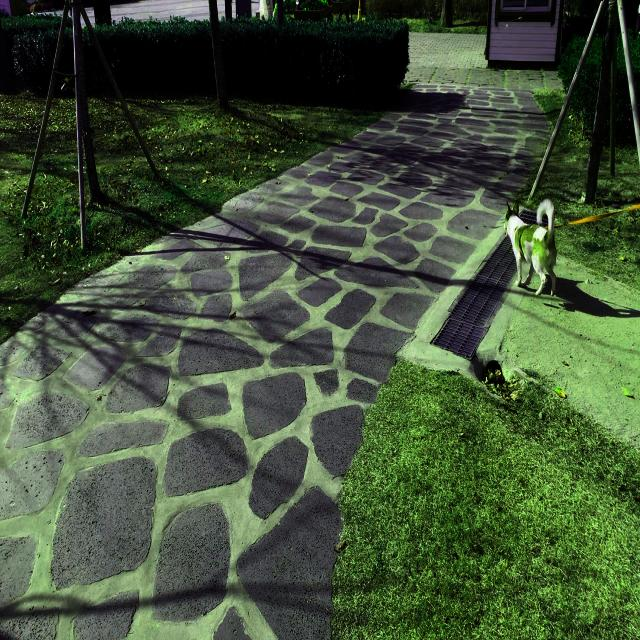Dog: (502, 197, 560, 300)
